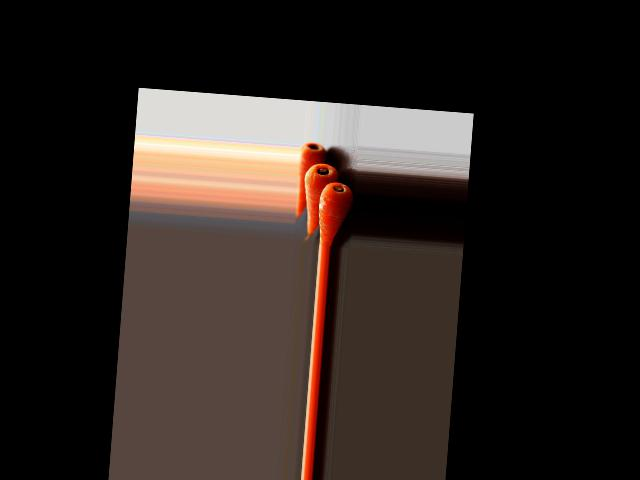carrot: (295, 151, 329, 219)
